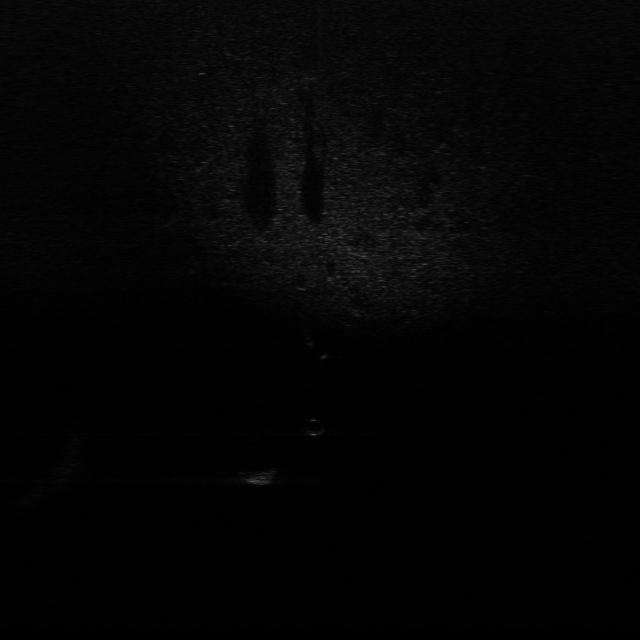ball: (300, 414, 330, 440)
human body: (299, 317, 332, 363)
square cage: (234, 458, 287, 488)
